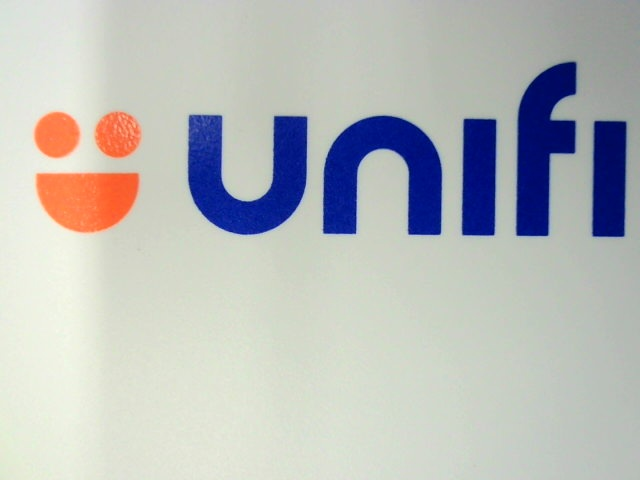BN_unifi: (20, 53, 634, 244)
